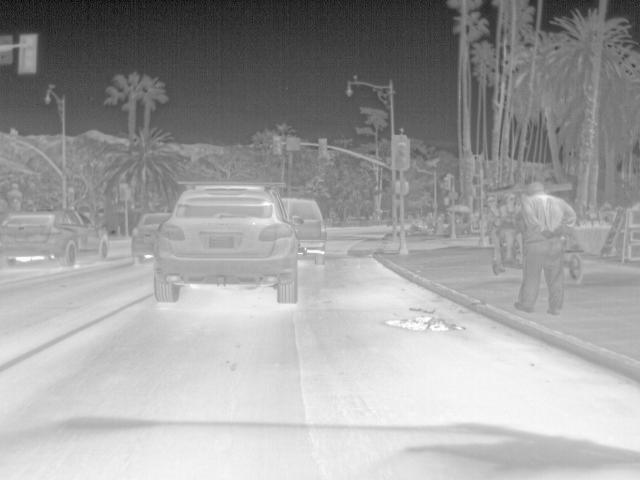car: (150, 179, 300, 307), (2, 207, 109, 270), (280, 198, 328, 265), (128, 210, 172, 262)
person: (514, 181, 575, 316), (481, 194, 504, 278), (500, 190, 522, 268)
